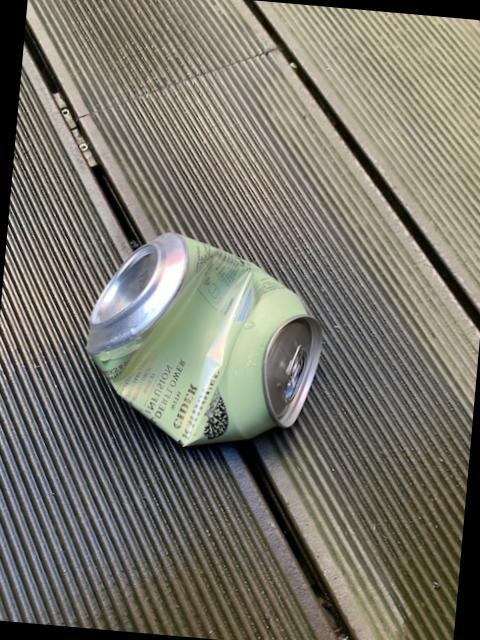metal: (88, 232, 323, 444)
